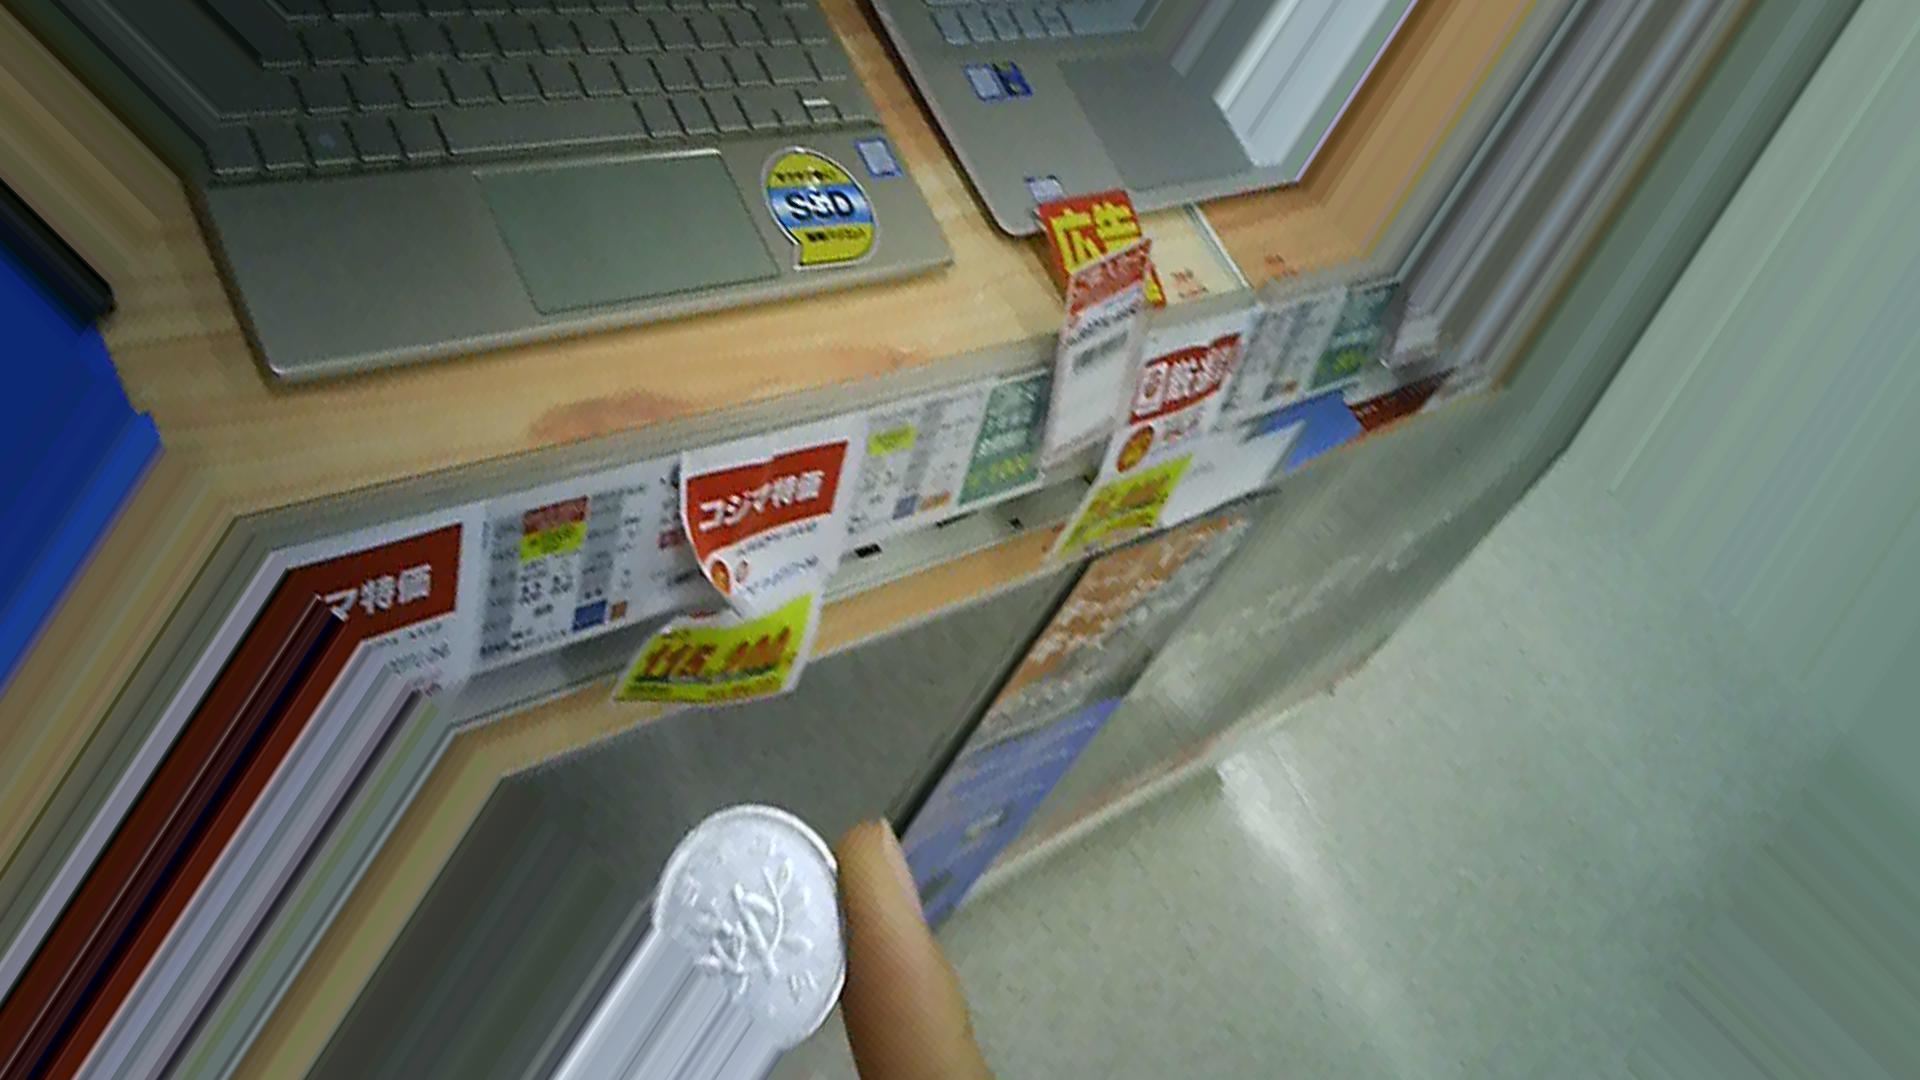1 Yen: (642, 807, 853, 1046)
